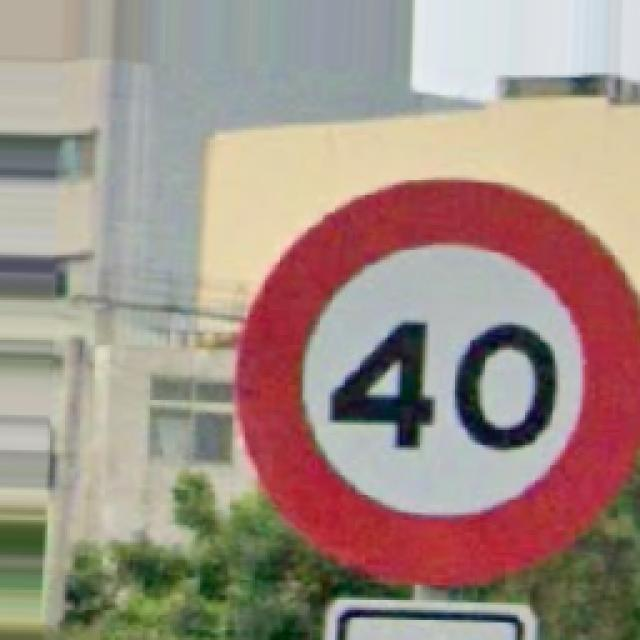Speed Limit -40-: (235, 182, 638, 580)
